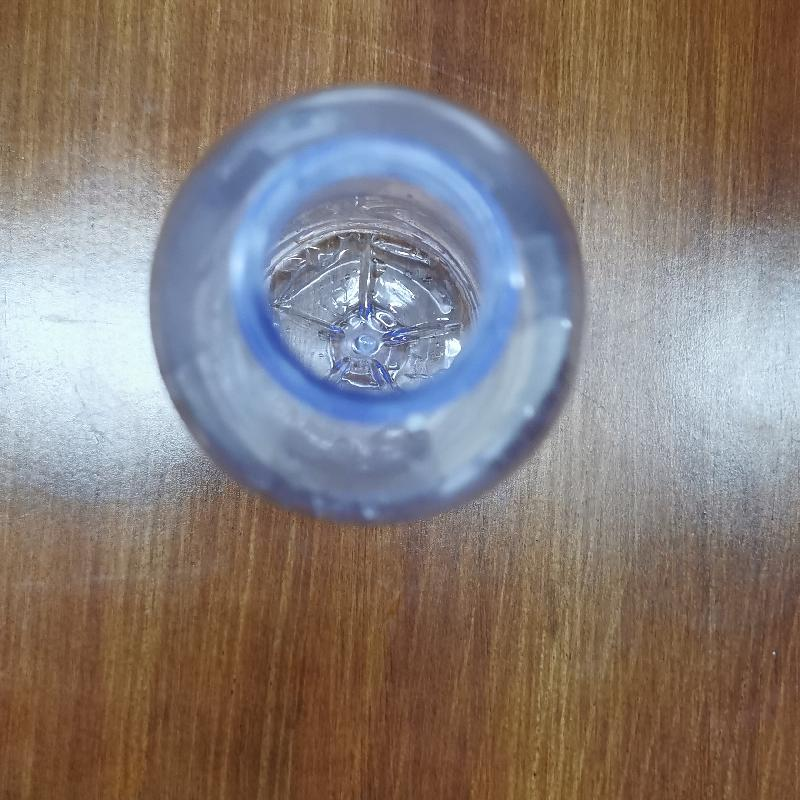bottles: (147, 78, 598, 529)
